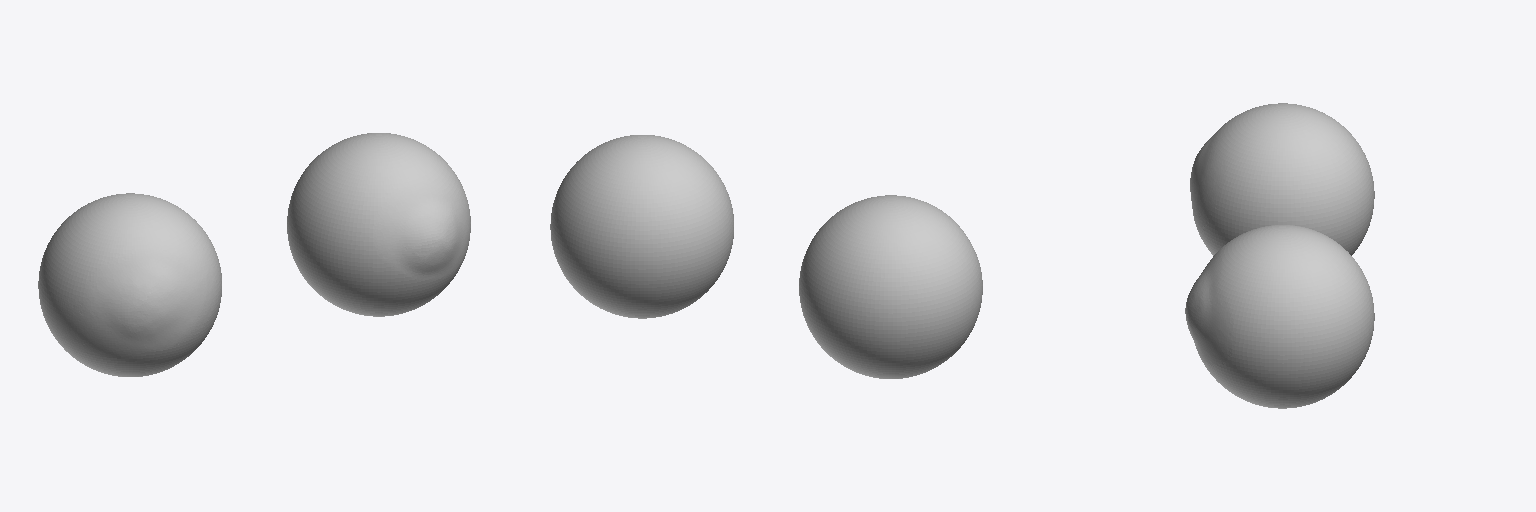
File: eye.obj
The picture shows the model from 3 angles: view 1: azimuth 30°, elevation 25°; view 2: azimuth 150°, elevation 25°; view 3: azimuth 270°, elevation 25°; orthographic projection.
Parts seen in each view (by area): view 1: Group8460, Group25758; view 2: Group8460, Group25758; view 3: Group8460, Group25758.
Boxes of the visible parts, box(x1,y1,x2,y2) form: Group8460: box(287, 133, 470, 316); Group25758: box(38, 193, 221, 376); Group8460: box(550, 135, 733, 318); Group25758: box(799, 195, 982, 378); Group8460: box(1185, 225, 1374, 408); Group25758: box(1190, 103, 1374, 255).
Bounding box in the file's own units: 0.107 × 0.0418 × 0.043.